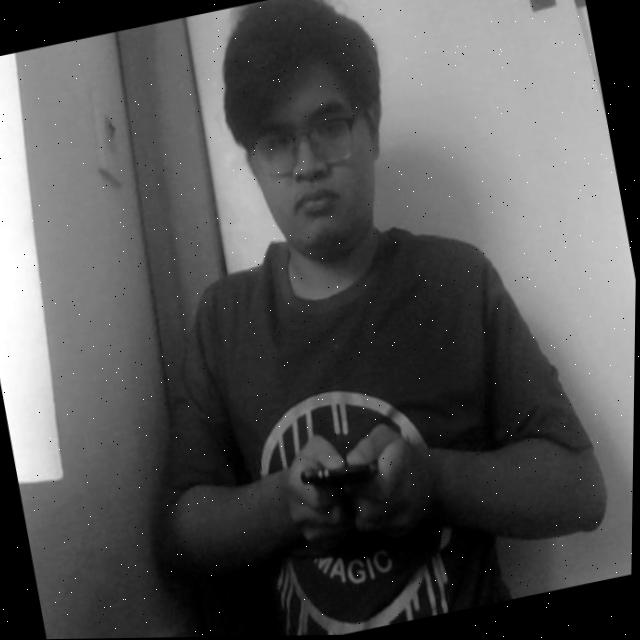phone: (289, 424, 400, 528)
